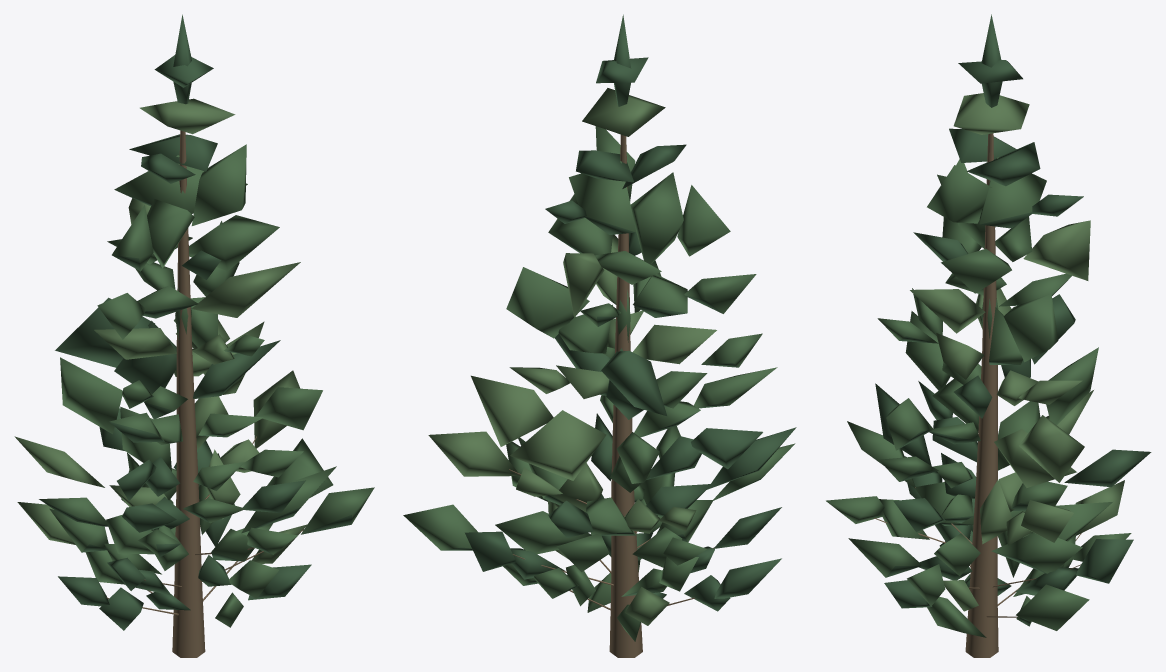
File: spruce-b.glb
3 views of the same model, side by side, from view 1: azimuth 30°, elevation 25°; view 2: azimuth 150°, elevation 25°; view 3: azimuth 270°, elevation 25° (orthographic).
Size of the model in its own units: 6.54 by 12.8 by 5.95.
